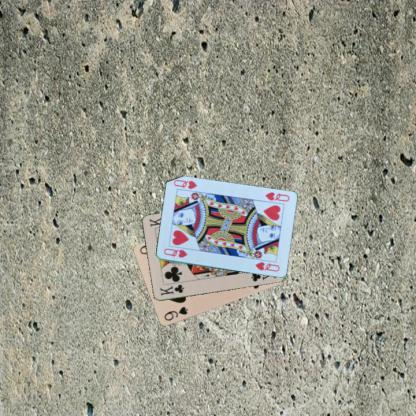9s: (161, 304, 189, 322)
Kc: (157, 282, 185, 297)
Qh: (262, 189, 291, 203), (162, 246, 188, 260)
